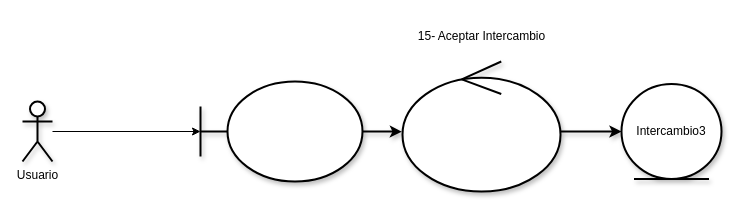
This 746x216 diagram has some shape labels left out. Each missing label, with the centre of its shape:
"AceptarIntercambioAction" goes at [482,127].
"AceptarIntercambioUi" goes at [282,132].
